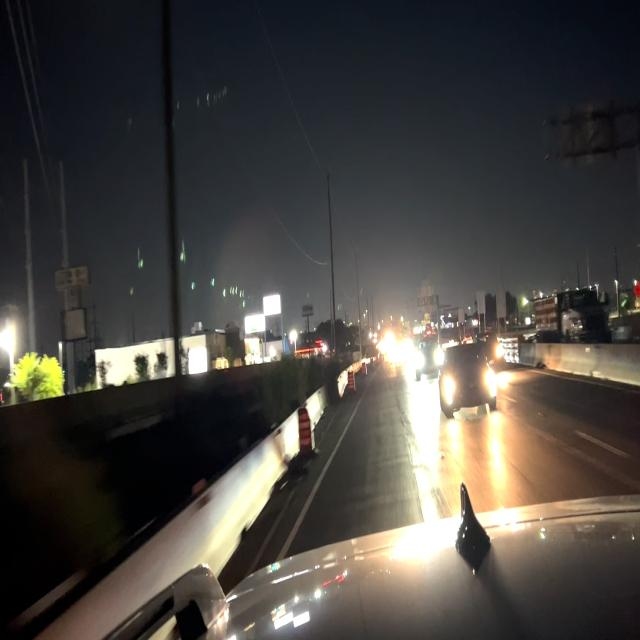back-of-sign: (536, 85, 640, 172), (413, 276, 440, 322)
